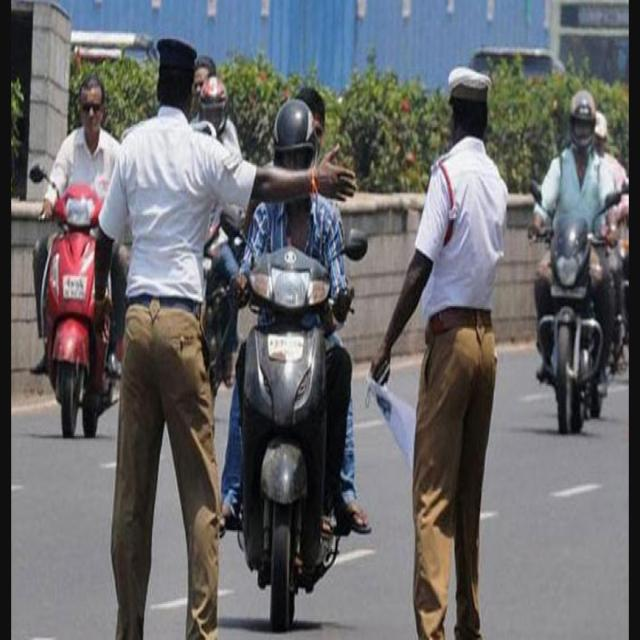motorcycle: (221, 193, 369, 631), (32, 73, 126, 438), (531, 91, 624, 433)
